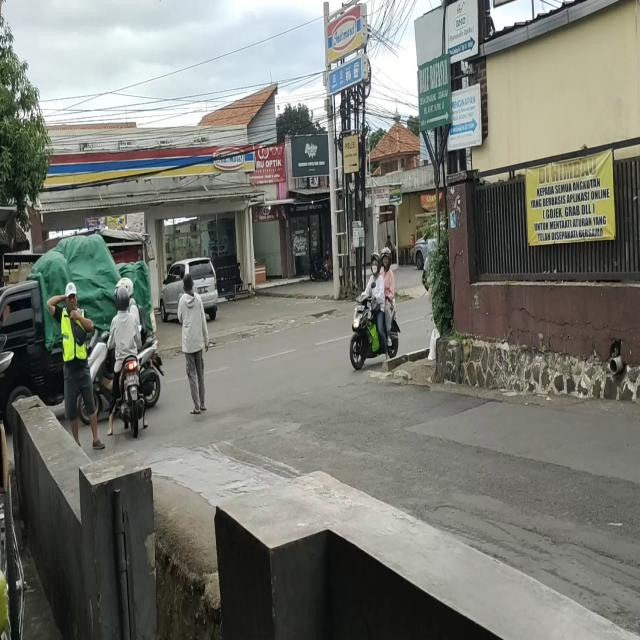helmet: (114, 287, 129, 313), (368, 248, 382, 275), (119, 277, 134, 302), (382, 246, 392, 272)
